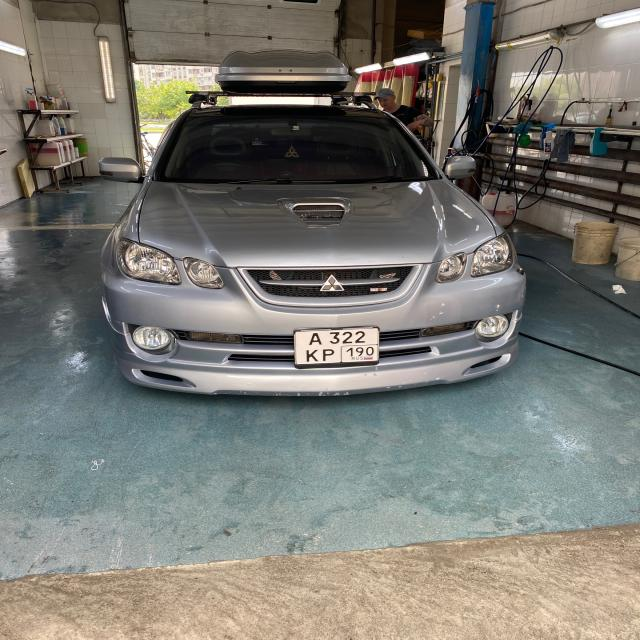number-plates: (292, 326, 382, 370)
